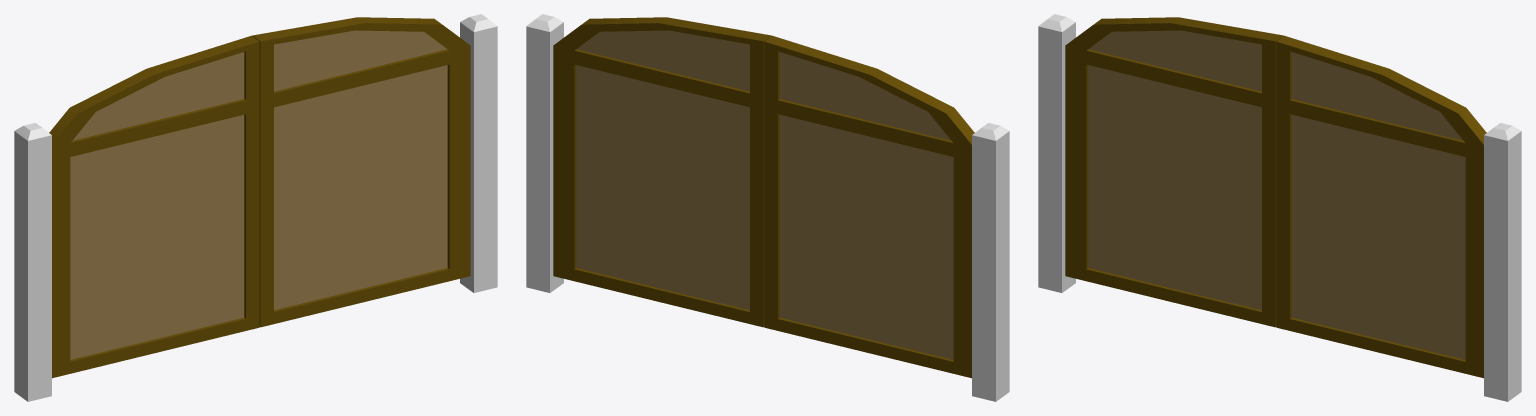
File: Fence_Gate.fbx
3 views of the same model, side by side, from view 1: azimuth 30°, elevation 25°; view 2: azimuth 150°, elevation 25°; view 3: azimuth 330°, elevation 25° (orthographic).
Visible parts, largest first — view 1: pCylinder4; view 2: pCylinder4; view 3: pCylinder4.
Boxes of the visible parts, x1,y1,x2,y2 form: pCylinder4: (14, 14, 497, 401); pCylinder4: (526, 14, 1009, 401); pCylinder4: (1038, 14, 1521, 401).
Bounding box in the file's own units: 294 × 180 × 15.
